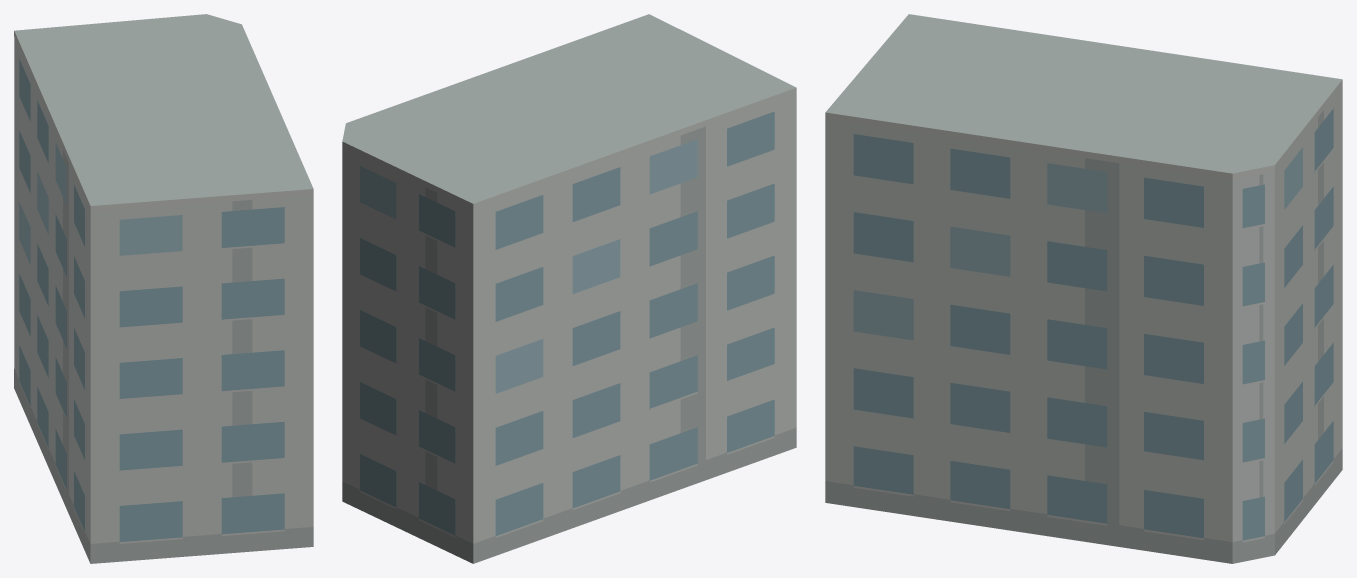
File: survey-upis-32888451.glb
3 views of the same model, side by side, from view 1: azimuth 30°, elevation 25°; view 2: azimuth 150°, elevation 25°; view 3: azimuth 270°, elevation 25° (orthographic). The views are drawn at different scales.
Visible parts, largest first — view 1: survey-upis-32888451.tmp; view 2: survey-upis-32888451.tmp; view 3: survey-upis-32888451.tmp.
Part boxes in pixels (<box>): survey-upis-32888451.tmp: <box>14,14,313,563</box>; survey-upis-32888451.tmp: <box>342,14,796,563</box>; survey-upis-32888451.tmp: <box>825,14,1342,563</box>.
Size of the model in its own units: 12.46 by 14.2 by 17.07.
